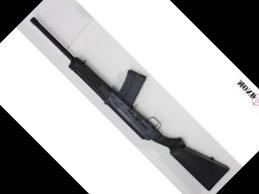larga: (30, 16, 230, 193)
